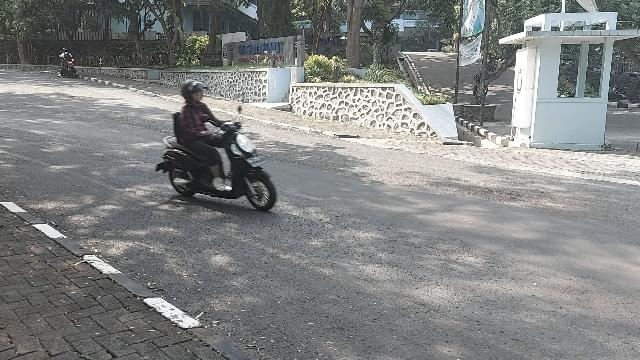helm: (183, 80, 210, 102)
motor: (157, 106, 277, 212)
